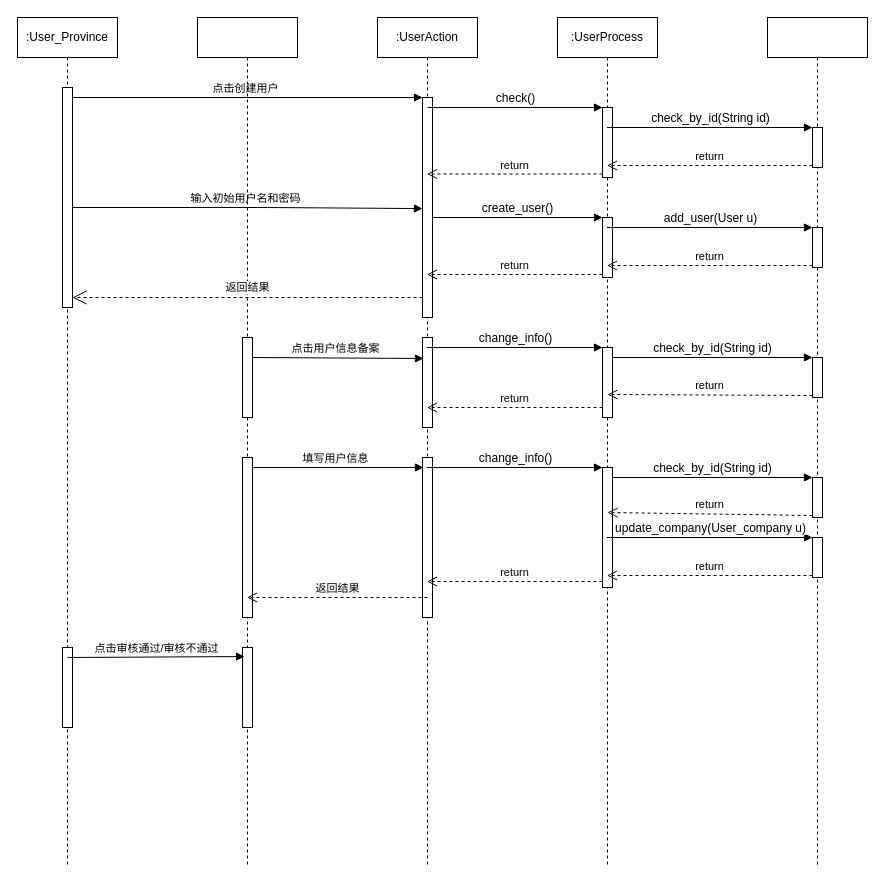
Some shapes in this 885 by 885 pixel diagram are drawn without their labels. Here are the shapes that lost their labels. From the top down, the box of each, then its label:
(196, 16, 298, 868): :User_company
(766, 16, 868, 868): :UserDAO
